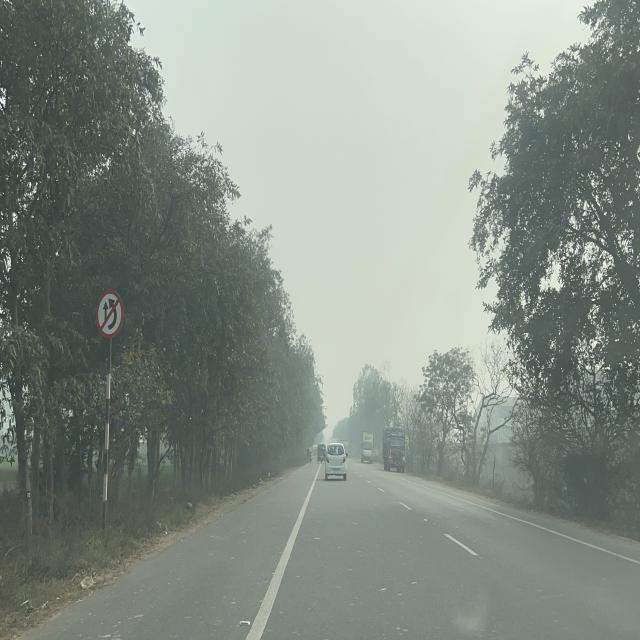OVERTAKING_PROHIBITED: (96, 289, 124, 339)
